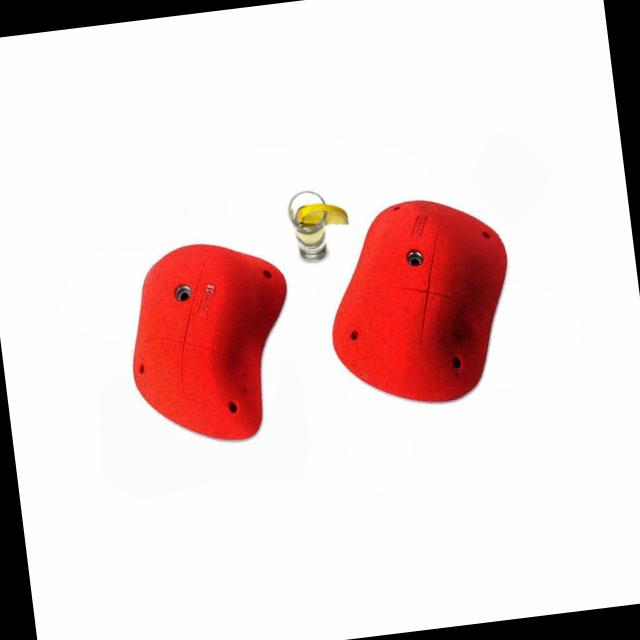Hold: (312, 192, 522, 415), (115, 219, 306, 458)
